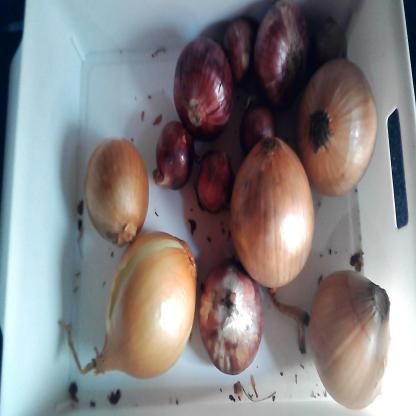onion: (98, 229, 200, 376), (231, 135, 319, 294), (310, 260, 400, 411), (300, 60, 386, 200), (196, 249, 269, 380), (81, 133, 155, 248), (170, 31, 235, 144), (154, 118, 198, 194), (192, 148, 235, 216)
